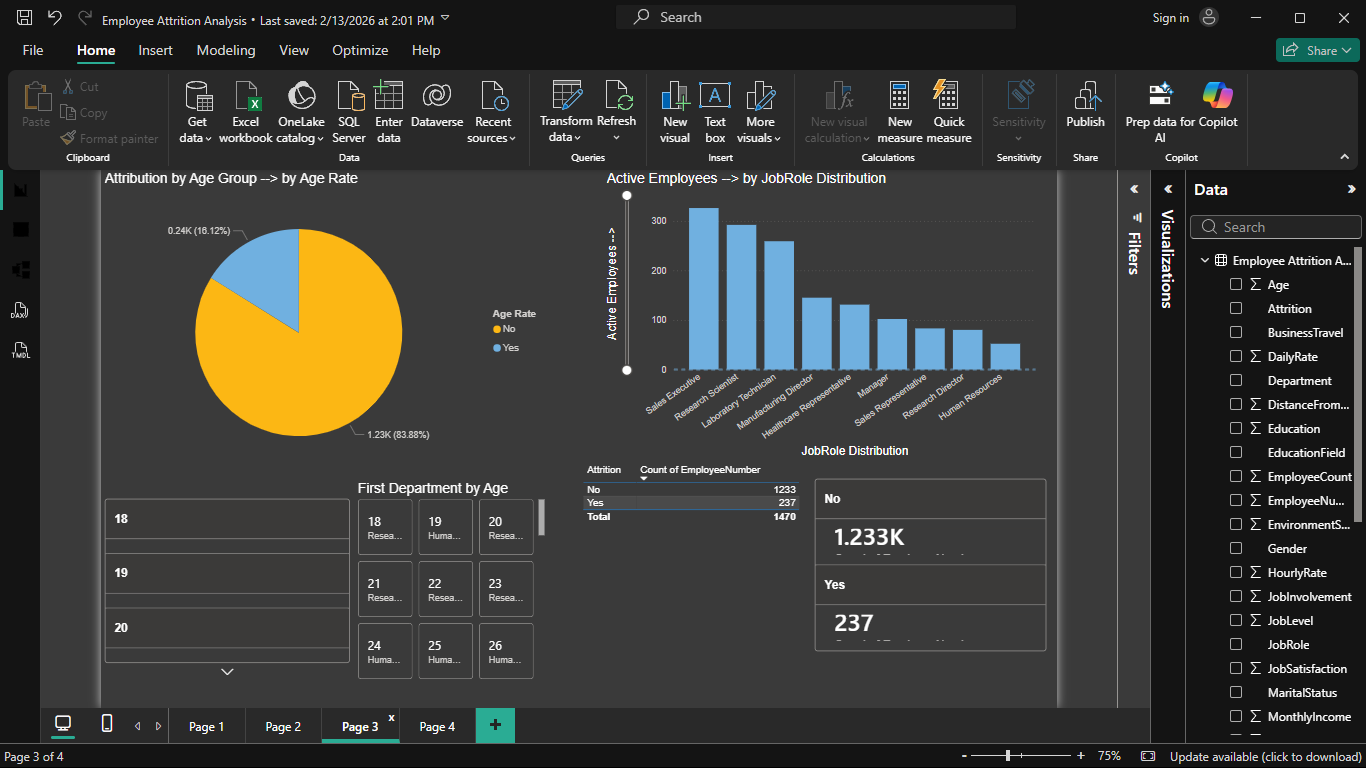

This screenshot's page, from the dashboard's own definition file:
{"tool":"powerbi","page":{"name":"Page 3","canvas":[1280,720],"ordinal":2},"visuals":[{"type":"pieChart","fields":{"Category":["Employee Attrition Analysis.Attrition"],"Y":["CountNonNull(Employee Attrition Analysis.Age)"]},"box":[0,0,611.4,414.3],"z":0},{"type":"advancedSlicerVisual","fields":{"Values":["Employee Attrition Analysis.Age"],"Label":["Min(Employee Attrition Analysis.Department)"]},"box":[338.6,414.3,260,272.9],"z":1000},{"type":"cardVisual","fields":{"Data":["Min(Employee Attrition Analysis.Attrition)","CountNonNull(Employee Attrition Analysis.EmployeeNumber)"],"Rows":["Employee Attrition Analysis.Age"]},"box":[0,414.3,338.6,272.9],"z":2000},{"type":"lineStackedColumnComboChart","fields":{"Category":["Employee Attrition Analysis.JobRole"],"Y":["CountNonNull(Employee Attrition Analysis.EmployeeCount)"]},"box":[671.4,0,584.3,390],"z":3000},{"type":"tableEx","fields":{"Values":["Employee Attrition Analysis.Attrition","CountNonNull(Employee Attrition Analysis.EmployeeNumber)"]},"box":[640,388.6,310,282.9],"z":4000},{"type":"cardVisual","fields":{"Data":["CountNonNull(Employee Attrition Analysis.EmployeeNumber)"],"Rows":["Employee Attrition Analysis.Attrition"]},"box":[950,388.6,320,282.9],"z":5000}]}

Visuals, with their boxes on the page's 1280x720 design canvas (x1, y1, x2, y2). These are canvas units, not pixel positions in the 1366x768 screenshot, which may show the page scaled, cropped or inside an application window:
pieChart - Employee Attrition Analysis.Attrition x CountNonNull(Employee Attrition Analysis.Age): l=0, t=0, r=611, b=414
advancedSlicerVisual - Employee Attrition Analysis.Age x Min(Employee Attrition Analysis.Department): l=339, t=414, r=599, b=687
cardVisual - Min(Employee Attrition Analysis.Attrition) x CountNonNull(Employee Attrition Analysis.EmployeeNumber): l=0, t=414, r=339, b=687
lineStackedColumnComboChart - Employee Attrition Analysis.JobRole x CountNonNull(Employee Attrition Analysis.EmployeeCount): l=671, t=0, r=1256, b=390
tableEx - Employee Attrition Analysis.Attrition x CountNonNull(Employee Attrition Analysis.EmployeeNumber): l=640, t=389, r=950, b=672
cardVisual - CountNonNull(Employee Attrition Analysis.EmployeeNumber) x Employee Attrition Analysis.Attrition: l=950, t=389, r=1270, b=672
